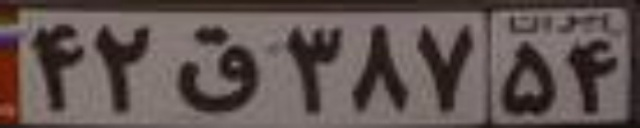2: (96, 26, 146, 111)
3: (286, 25, 342, 112), (31, 24, 86, 110)
4: (566, 39, 617, 112)
5: (497, 39, 558, 114)
7: (415, 23, 476, 111)
8: (351, 24, 410, 110)
ghaf: (171, 26, 258, 111)
